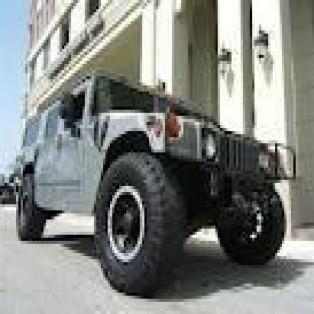Auto: (5, 67, 300, 296)
